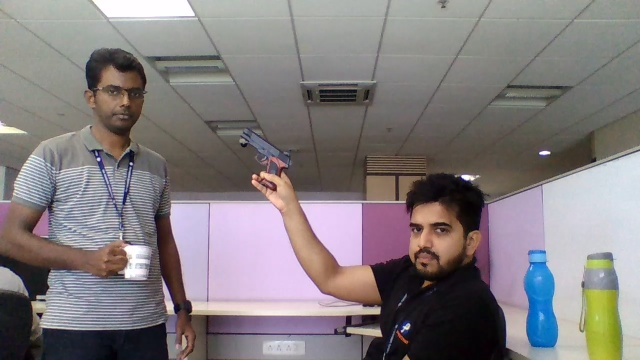gun: (249, 123, 292, 172)
